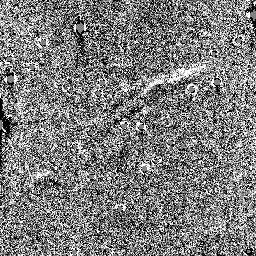LE: (137, 68, 183, 98)
